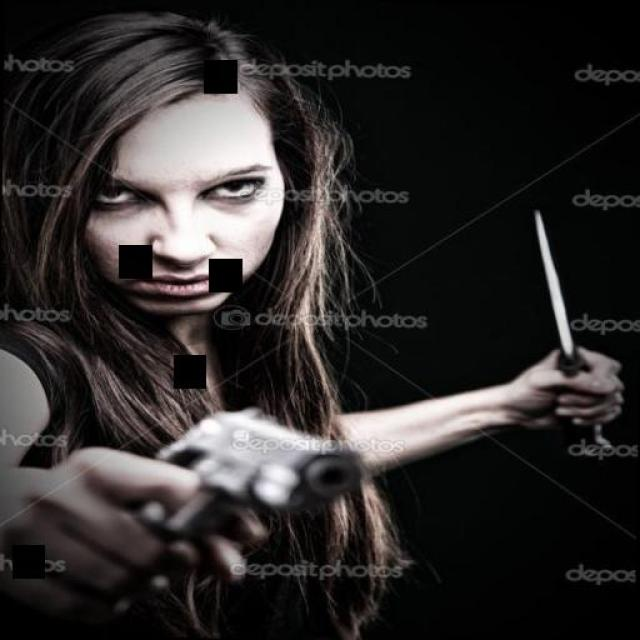gun: (79, 402, 374, 608)
